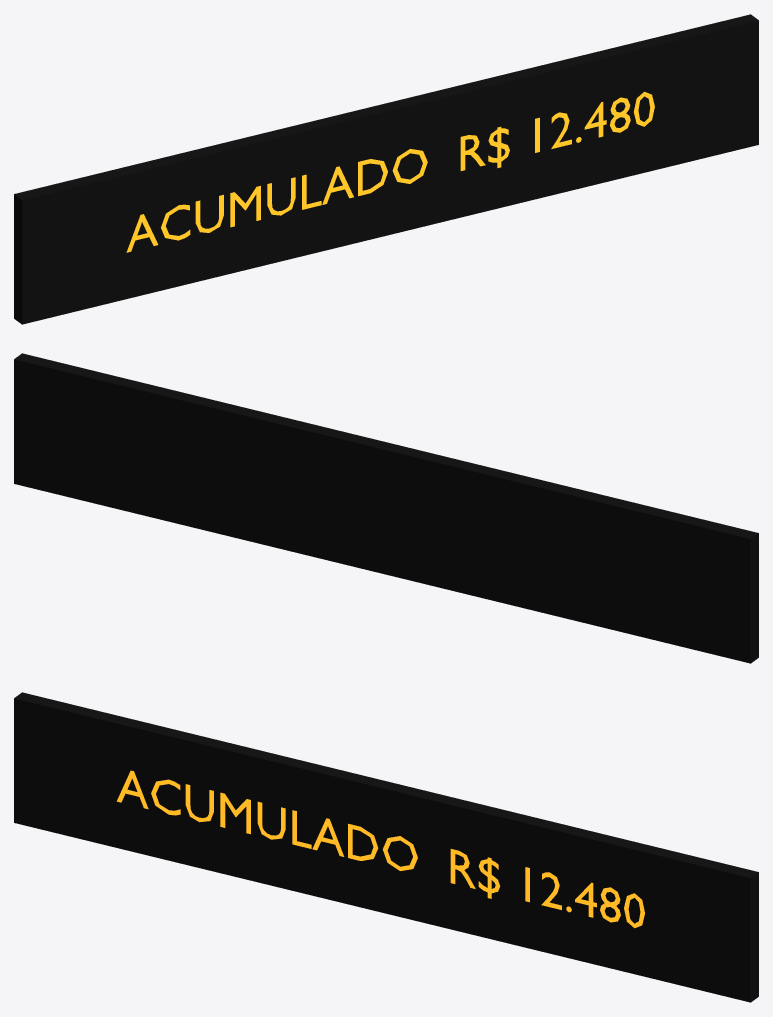
File: placar_acumulado.glb
3 renders of one model, top to bottom at view 1: azimuth 30°, elevation 25°; view 2: azimuth 150°, elevation 25°; view 3: azimuth 330°, elevation 25°, orthographic.
Visible parts, largest first — view 1: Placar_Acumulado, Placar_Acumulado_Texto; view 2: Placar_Acumulado; view 3: Placar_Acumulado, Placar_Acumulado_Texto.
Part boxes in pixels (bbox=[...]): Placar_Acumulado: bbox=[14, 14, 758, 324]; Placar_Acumulado_Texto: bbox=[126, 91, 654, 252]; Placar_Acumulado: bbox=[14, 353, 758, 663]; Placar_Acumulado: bbox=[14, 692, 758, 1002]; Placar_Acumulado_Texto: bbox=[116, 770, 644, 928].
Size of the model in its own units: 2.6 by 0.42 by 0.055.
